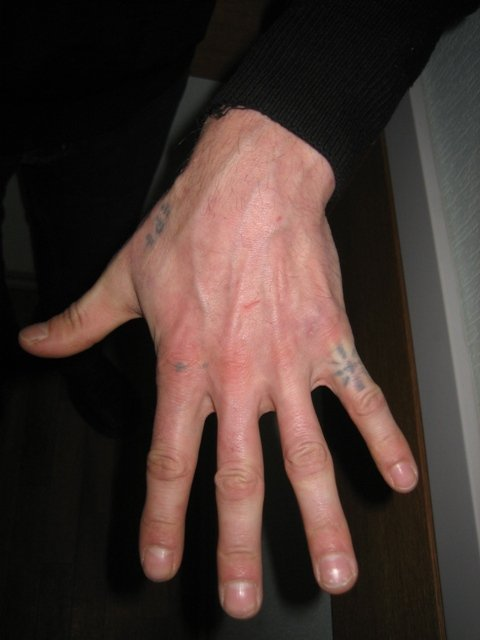tatu9_krest: (341, 356, 365, 386)
